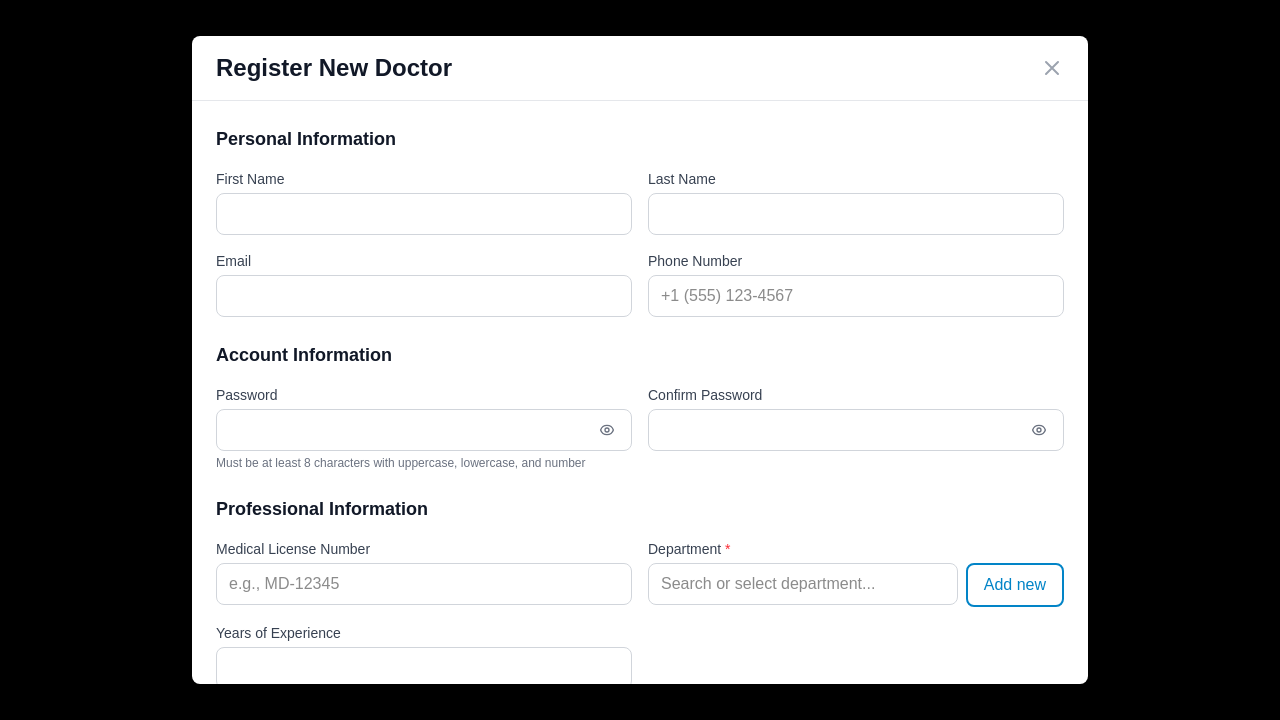
Test case: DoctorRegistrationModal › validates password strength
The image size is (1280, 720).
Type "doctor@example.com" into the field labelled "Email".
click(424, 296); type("doctor@example.com")  # box [217, 276, 631, 316]
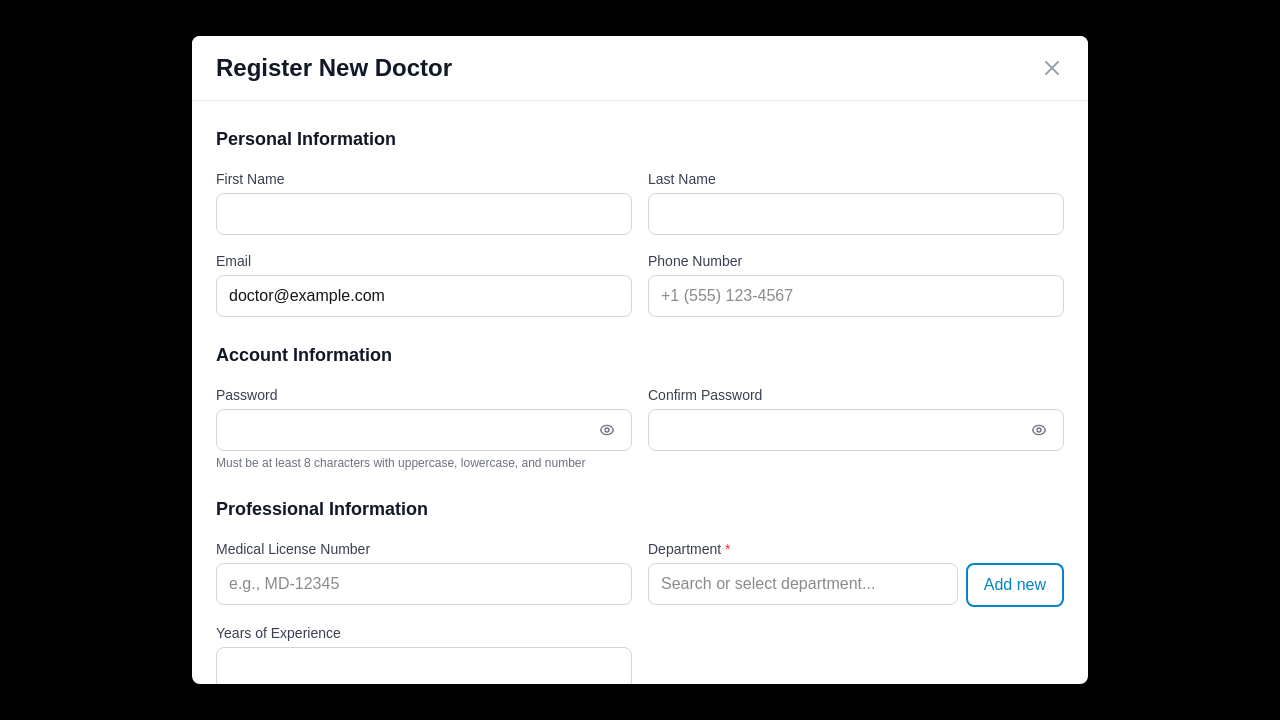
Type "short" into the password field labelled "Password".
click(404, 430); type("short")  # box [217, 410, 591, 450]
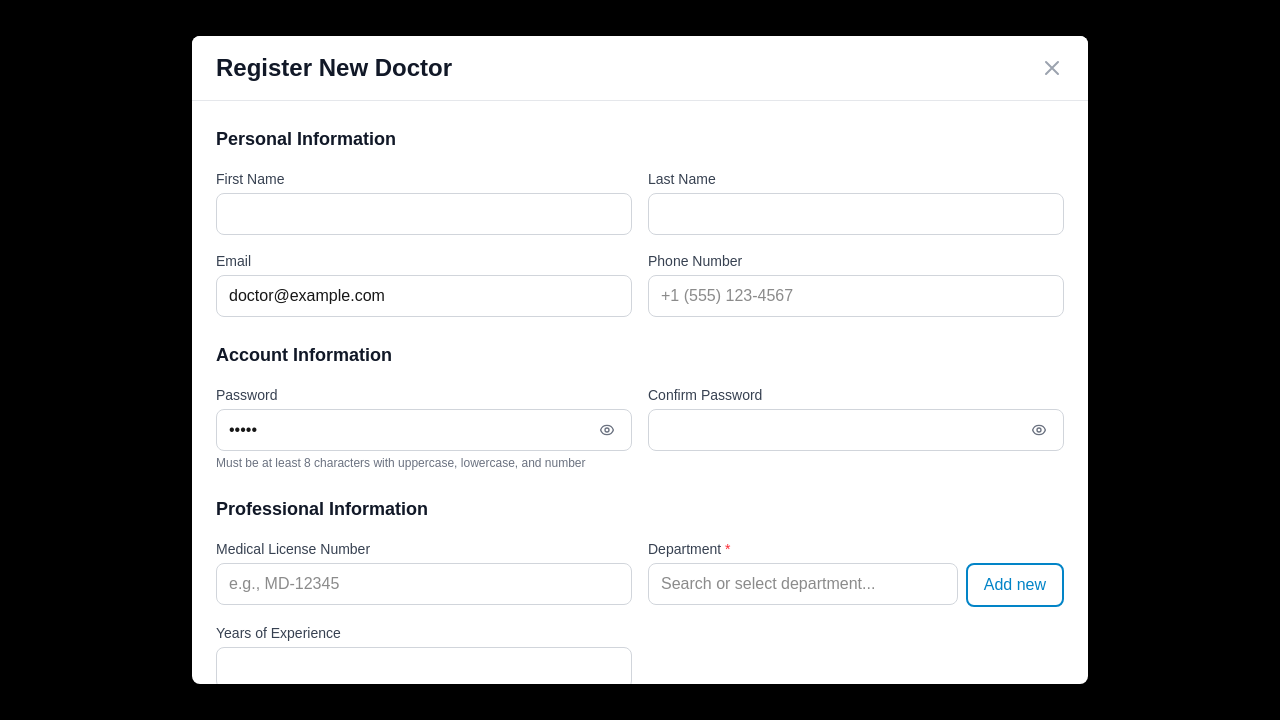
Type "short" into the password field labelled "Confirm Password".
click(836, 430); type("short")  # box [649, 410, 1023, 450]
(page scrolled)
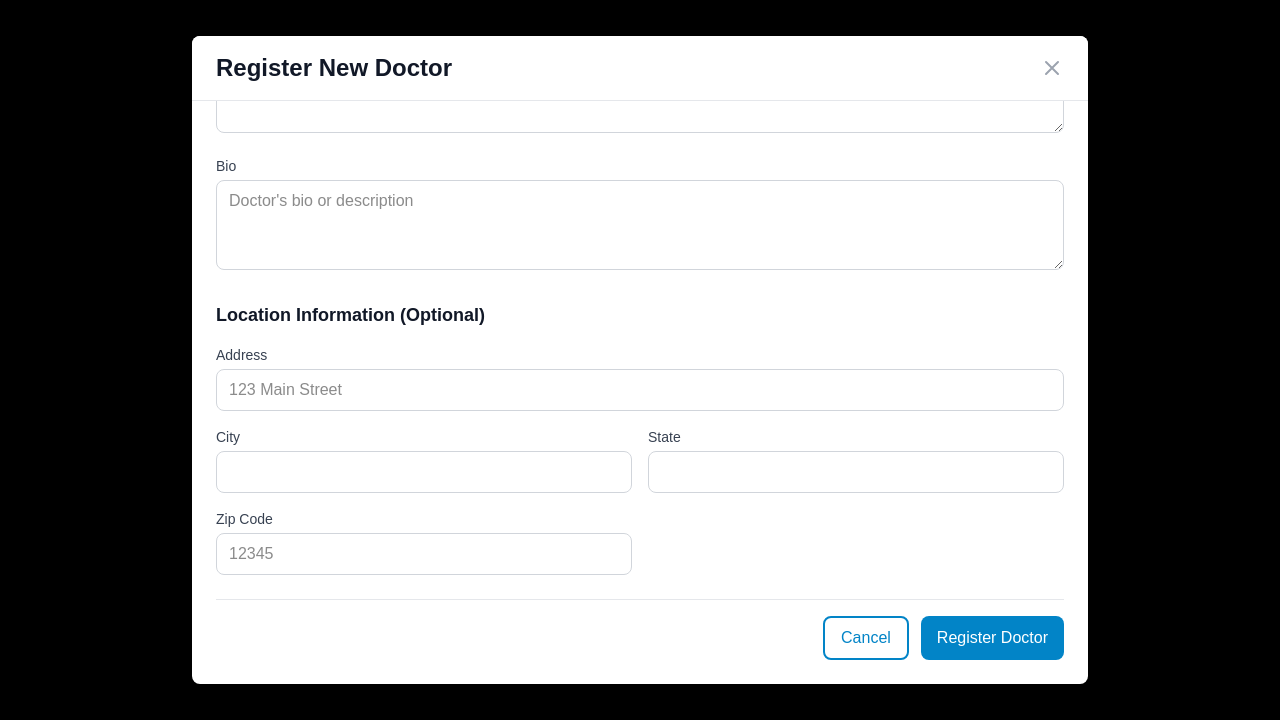
Click the button "Register Doctor".
click(992, 638)  # box [921, 616, 1064, 660]
(page scrolled)
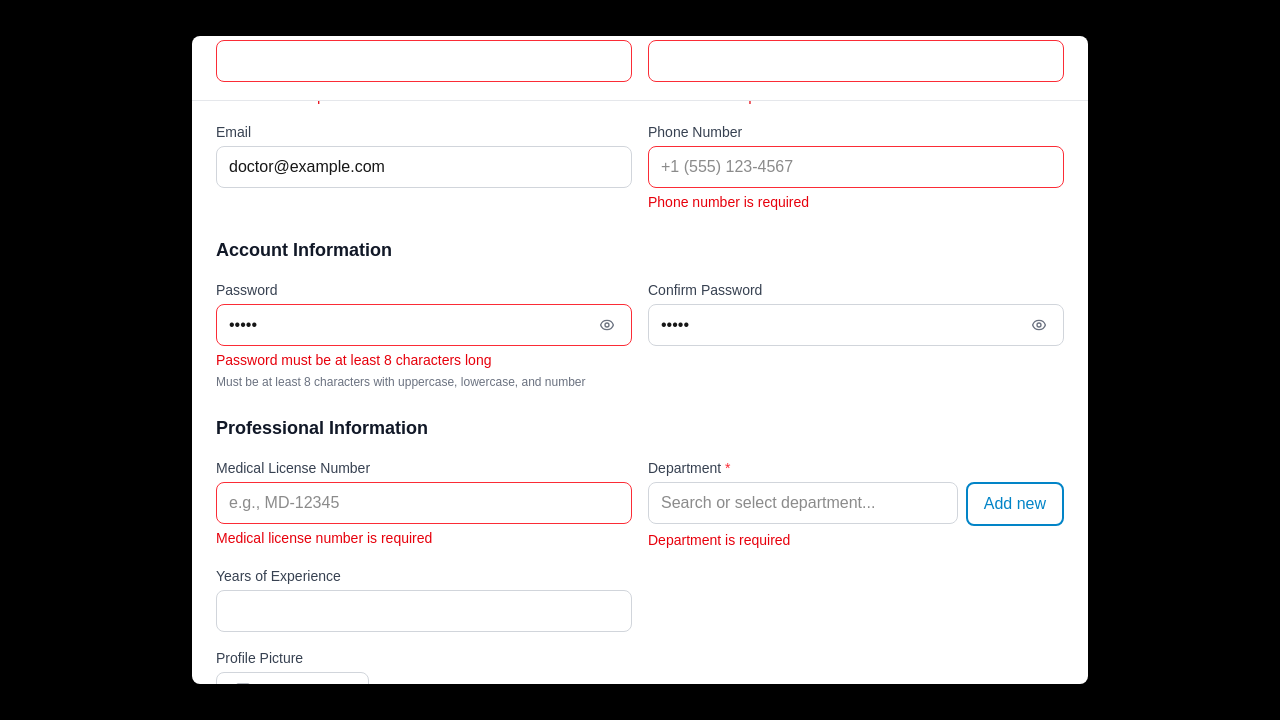
Result: the text "Password must be at least 8 characters long" is shown at [216, 352, 492, 368]
